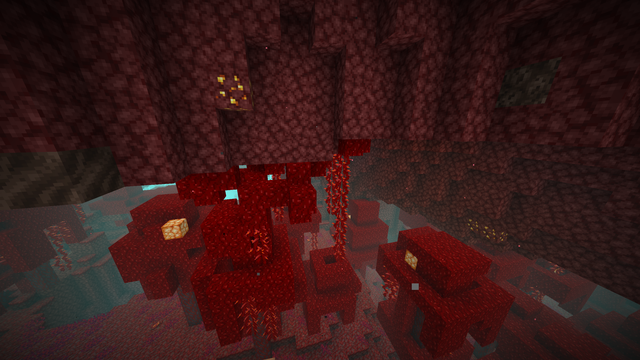nethergold: (214, 74, 253, 112), (468, 217, 508, 245)
